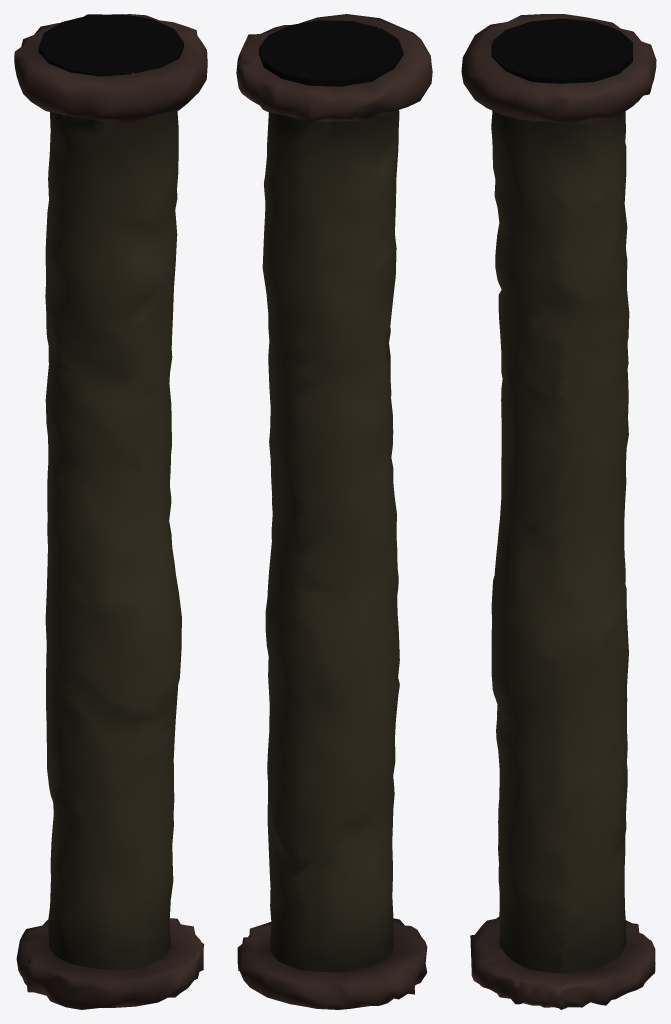
Rendered from msh_Pipe_03.fbx.
The picture shows the model from 3 angles, left to right: view 1: azimuth 30°, elevation 25°; view 2: azimuth 150°, elevation 25°; view 3: azimuth 270°, elevation 25°; orthographic projection.
Visible parts, largest first — view 1: pipe3; view 2: pipe3; view 3: pipe3.
Boxes of the visible parts, x1,y1,x2,y2 form: pipe3: (14, 14, 207, 1009); pipe3: (236, 14, 432, 1009); pipe3: (461, 14, 656, 1009).
Bounding box in the file's own units: 0.6102 × 3.12 × 0.5965.
